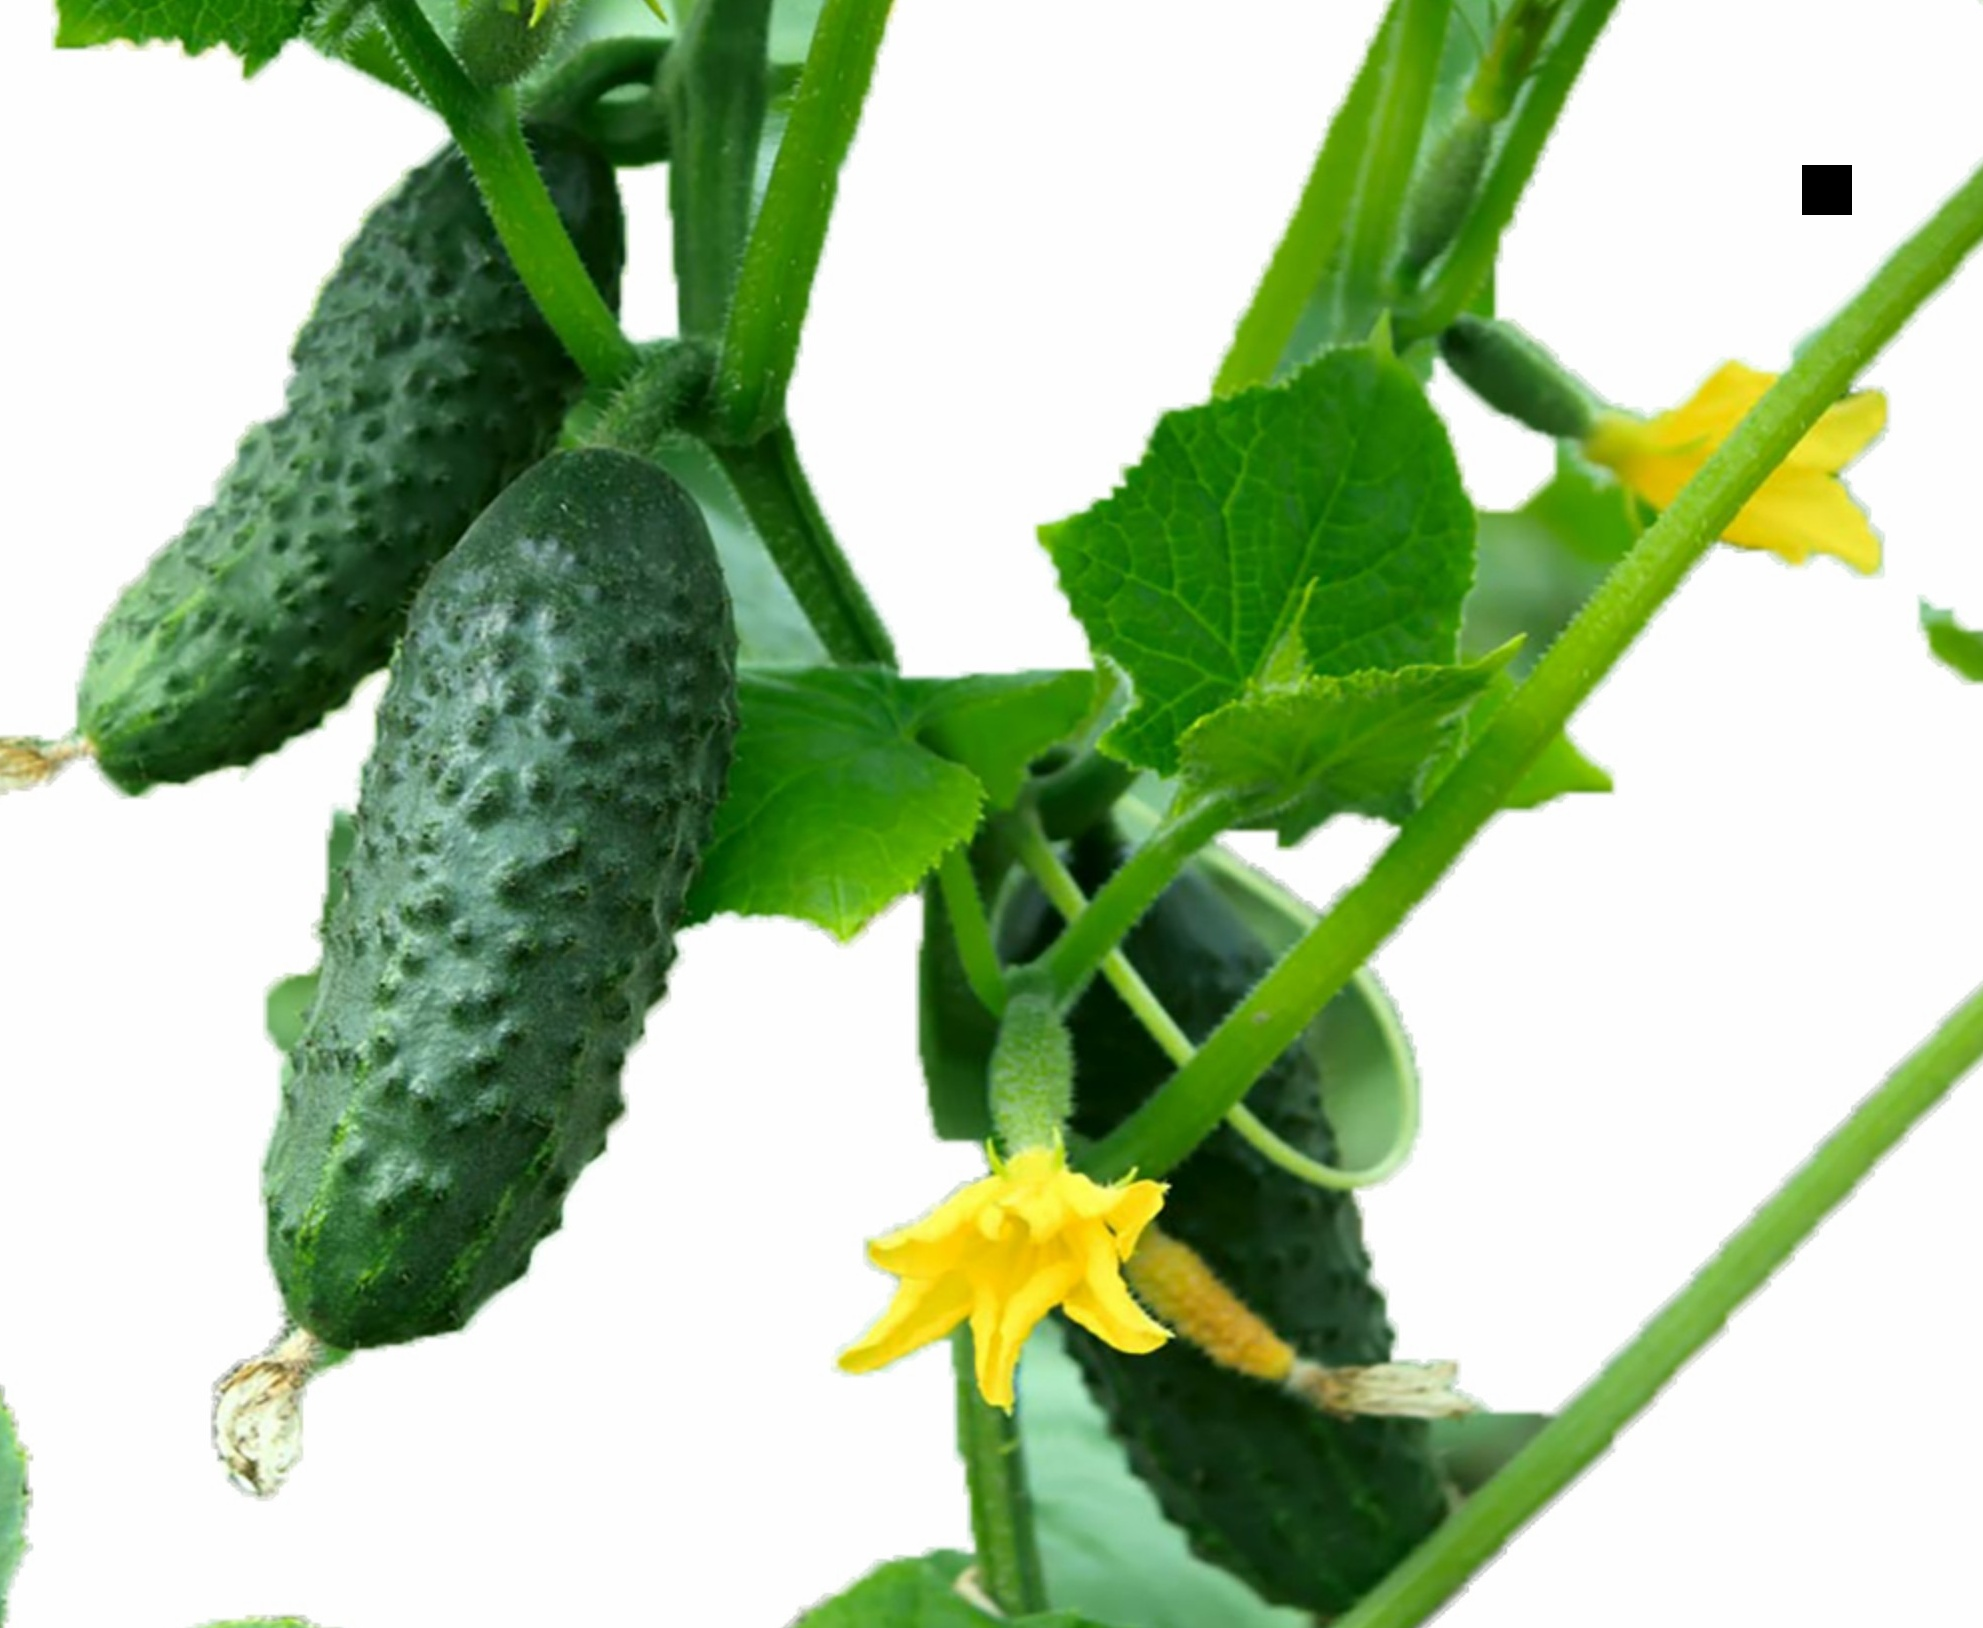cucumber: (16, 97, 674, 812), (259, 453, 730, 1364)
cucumber_plant: (796, 2, 1922, 1587)
